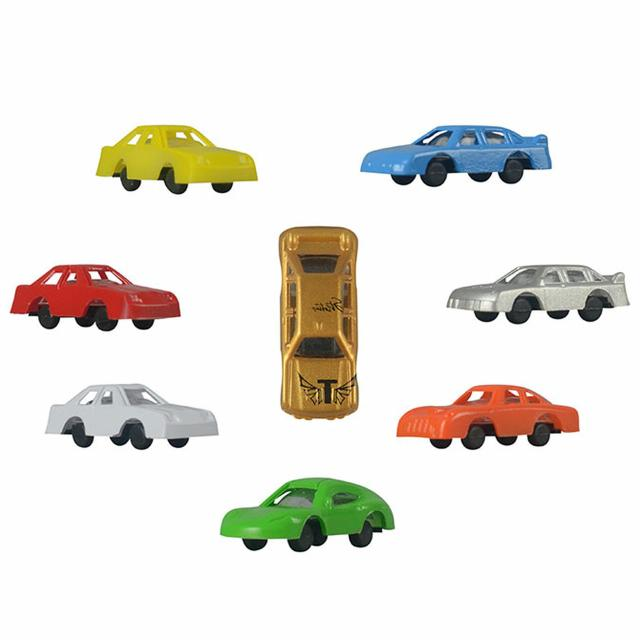Car: (280, 227, 359, 420), (10, 264, 180, 331), (96, 125, 258, 194)
